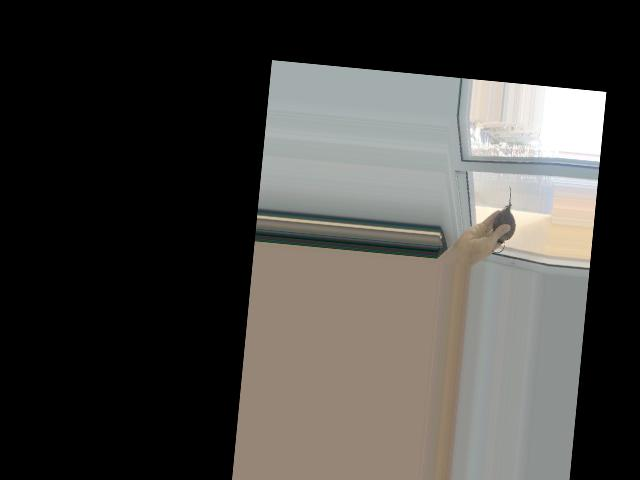beet: (483, 183, 519, 254)
